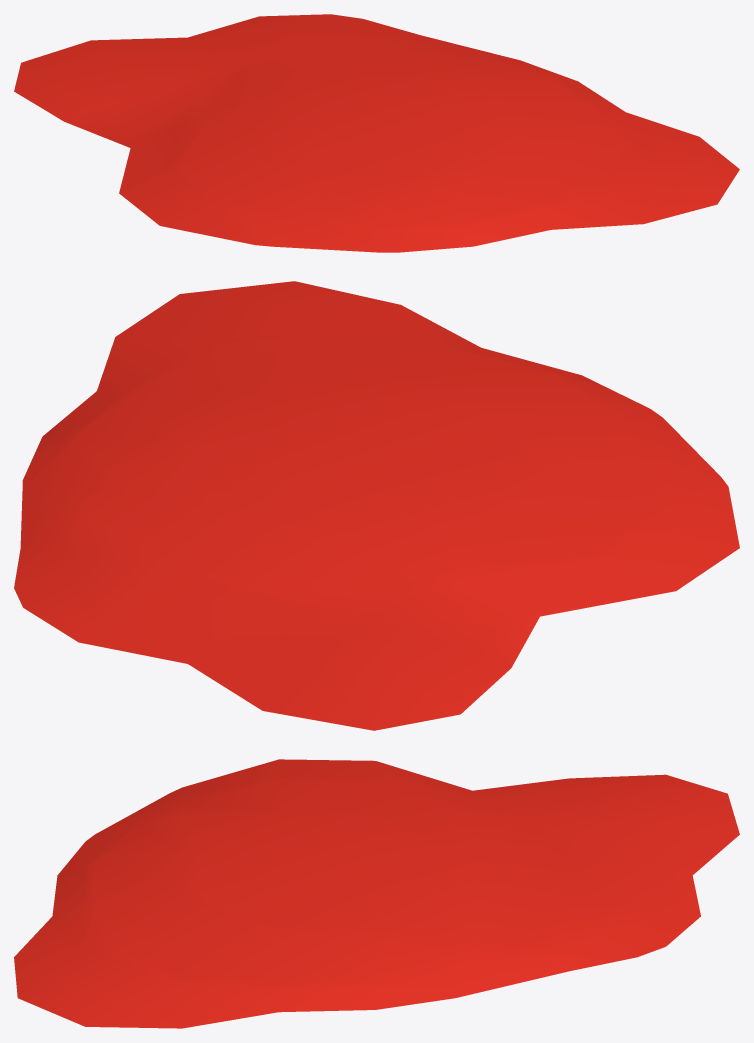
File: blood1.fbx
3 renders of one model, top to bottom at view 1: azimuth 30°, elevation 25°; view 2: azimuth 150°, elevation 25°; view 3: azimuth 270°, elevation 25°, orthographic. The views are drawn at different scales.
Parts seen in each view (by area): view 1: Blood 1; view 2: Blood 1; view 3: Blood 1.
Part boxes in pixels (box(x1,y1,x2,y2)): Blood 1: box(14, 14, 739, 252); Blood 1: box(14, 281, 739, 730); Blood 1: box(14, 759, 739, 1028).
Bounding box in the file's own units: 85.13 × 97.03 × 4.03.
